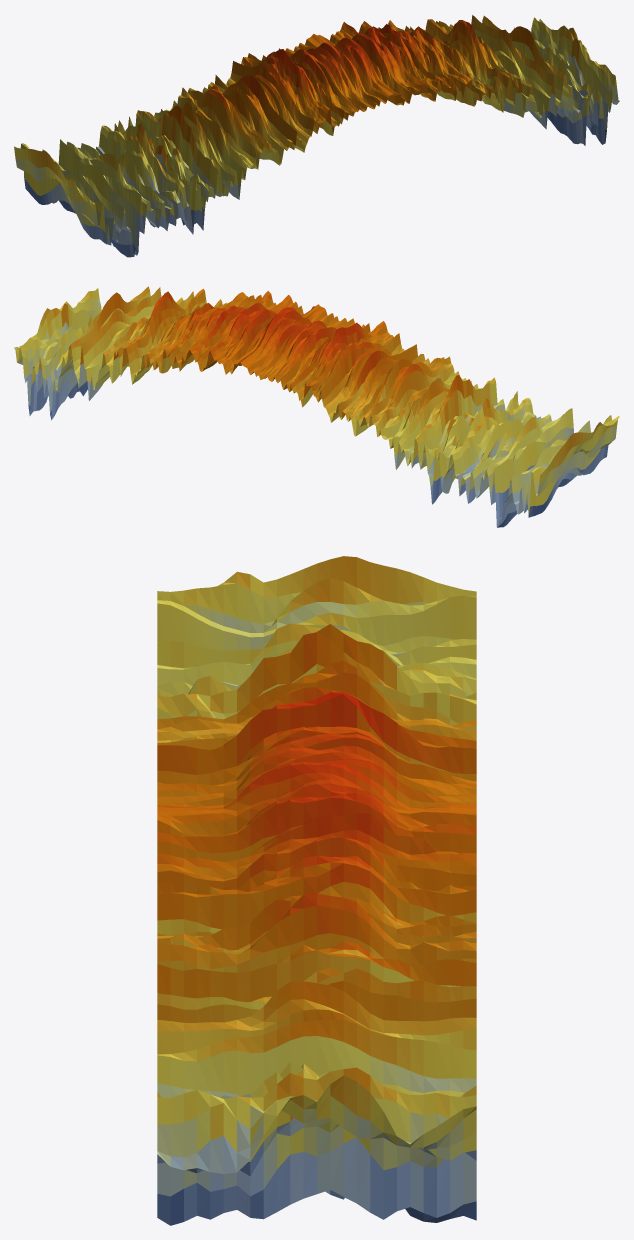
File: colored_flood_plot.obj
3 views of the same model, one above another, from view 1: azimuth 30°, elevation 25°; view 2: azimuth 150°, elevation 25°; view 3: azimuth 270°, elevation 25° (orthographic). The views are drawn at different scales.
Bounding box in the file's own units: 365 × 88.72 × 96.
